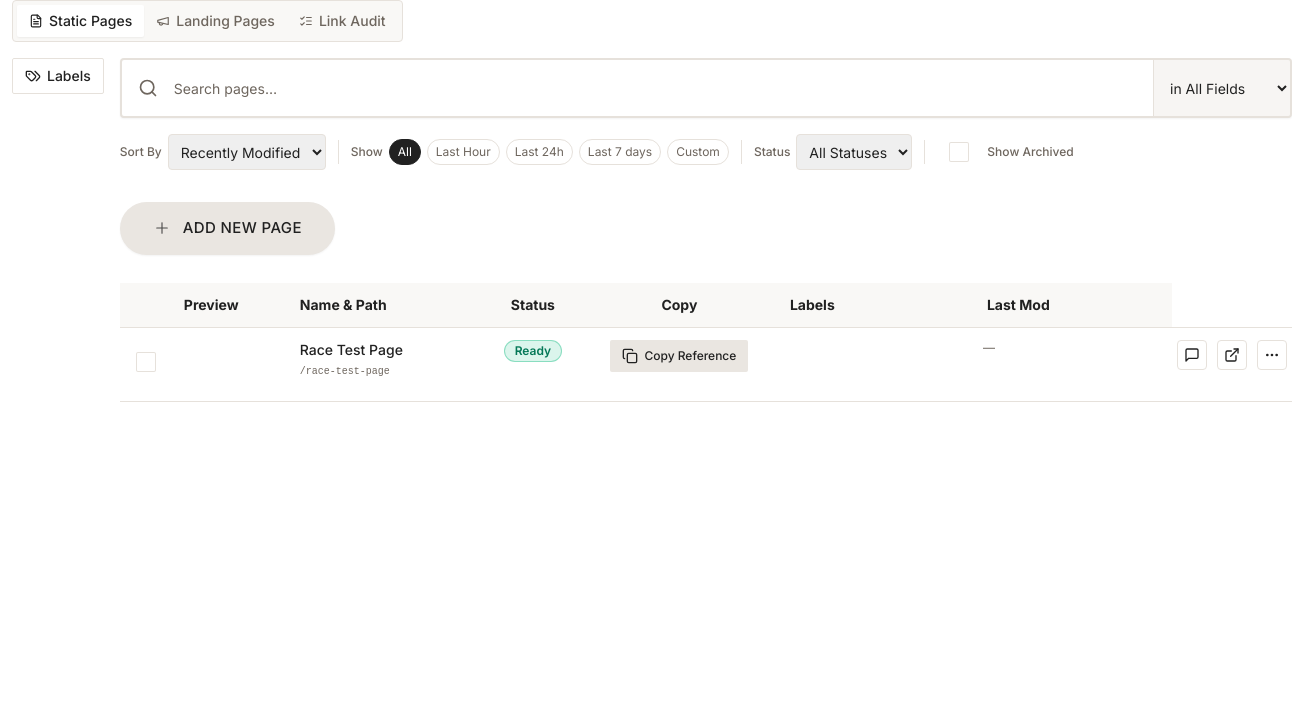
Test case: Pages list synchronization › archives from the portalled menu without opening the page and queues its named change
Step 1. Press Enter in the button named "More Actions", box [1257, 340, 1287, 370]
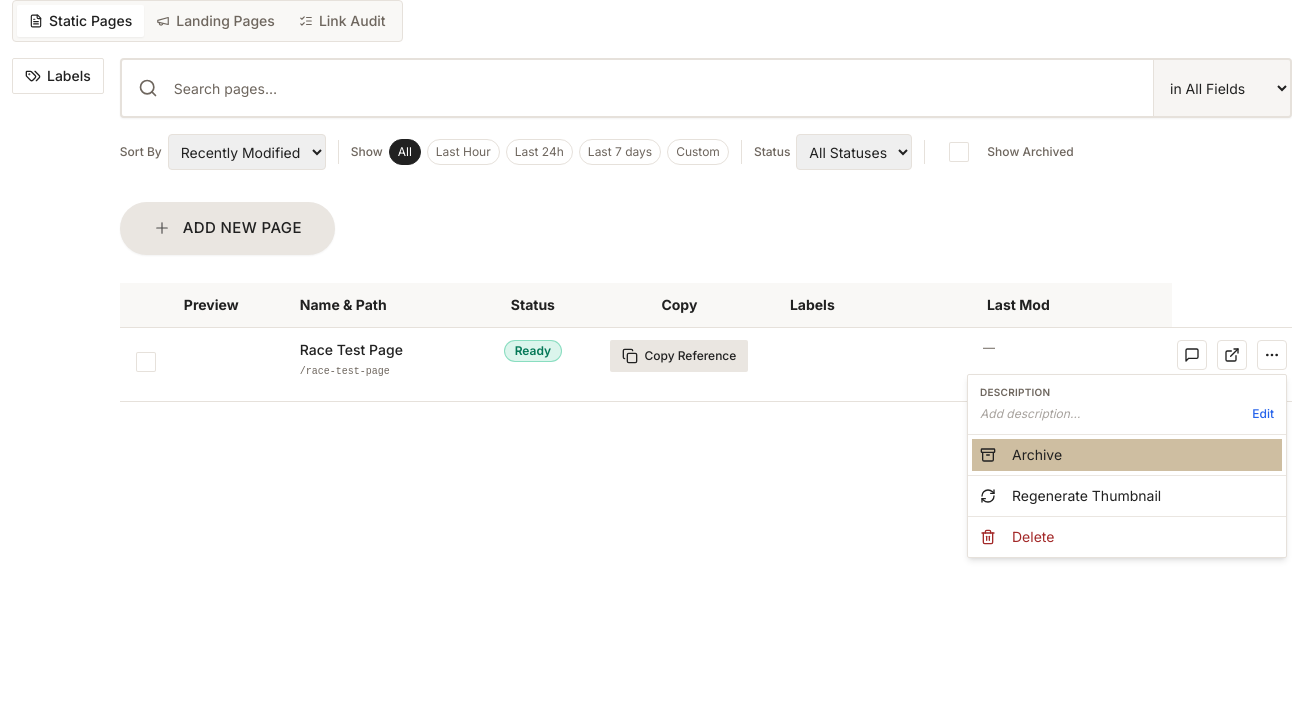
Step 2. Click the menu item "Archive" → click(1037, 454), box [972, 439, 1282, 471]
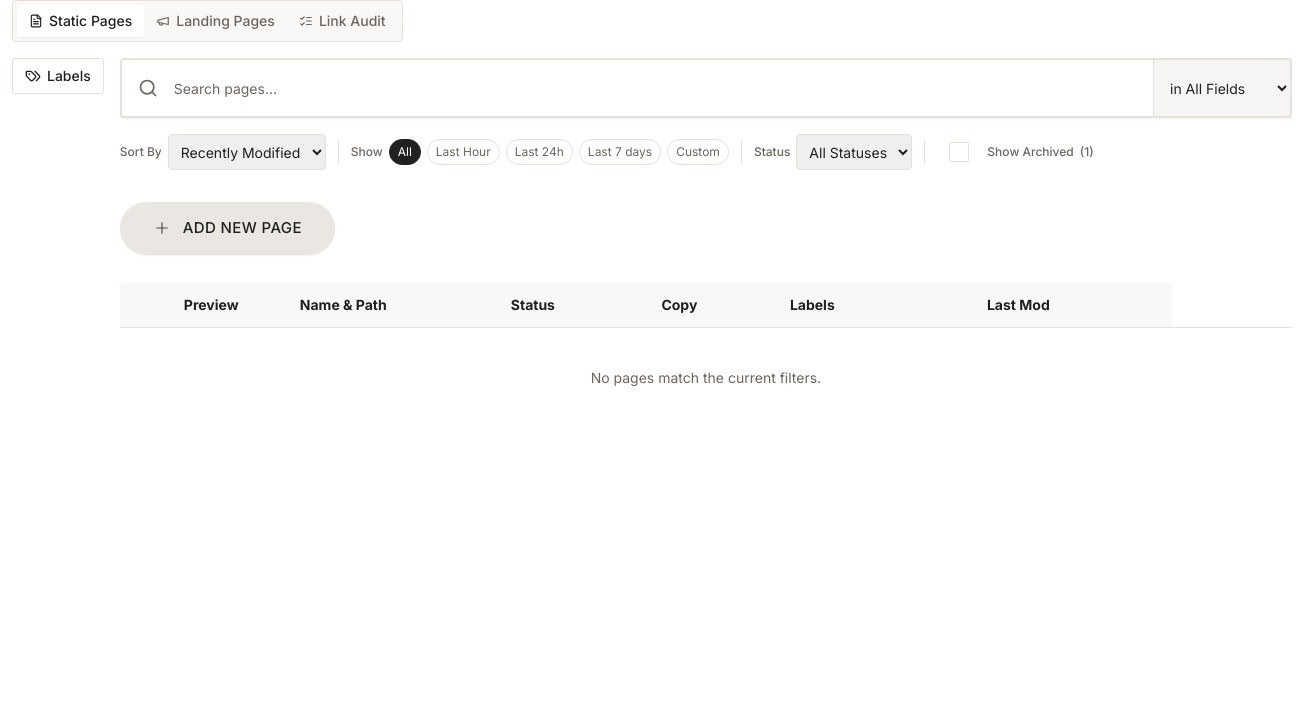
Now the button "Race Test Page" is gone
